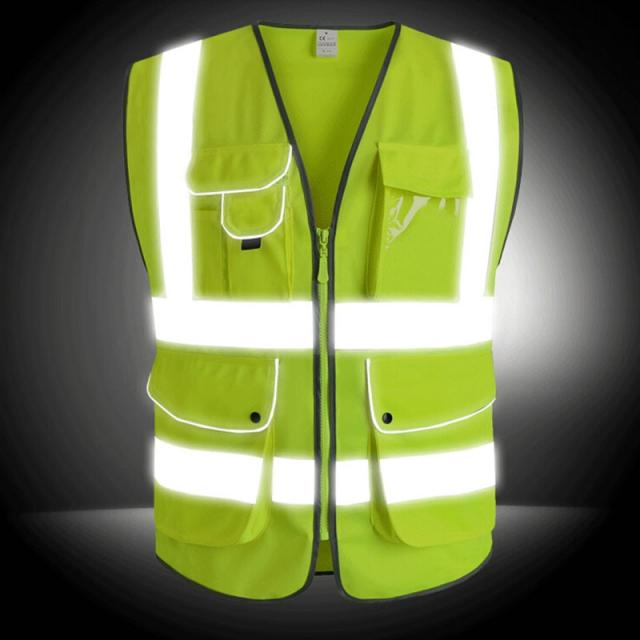Reflective-Jacket: (112, 0, 547, 613)
